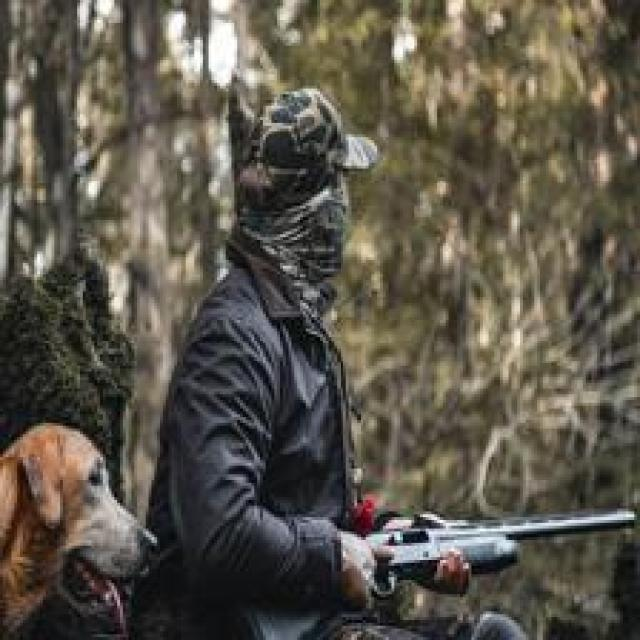Dog: (0, 411, 157, 640)
Rifle: (312, 487, 628, 604)
